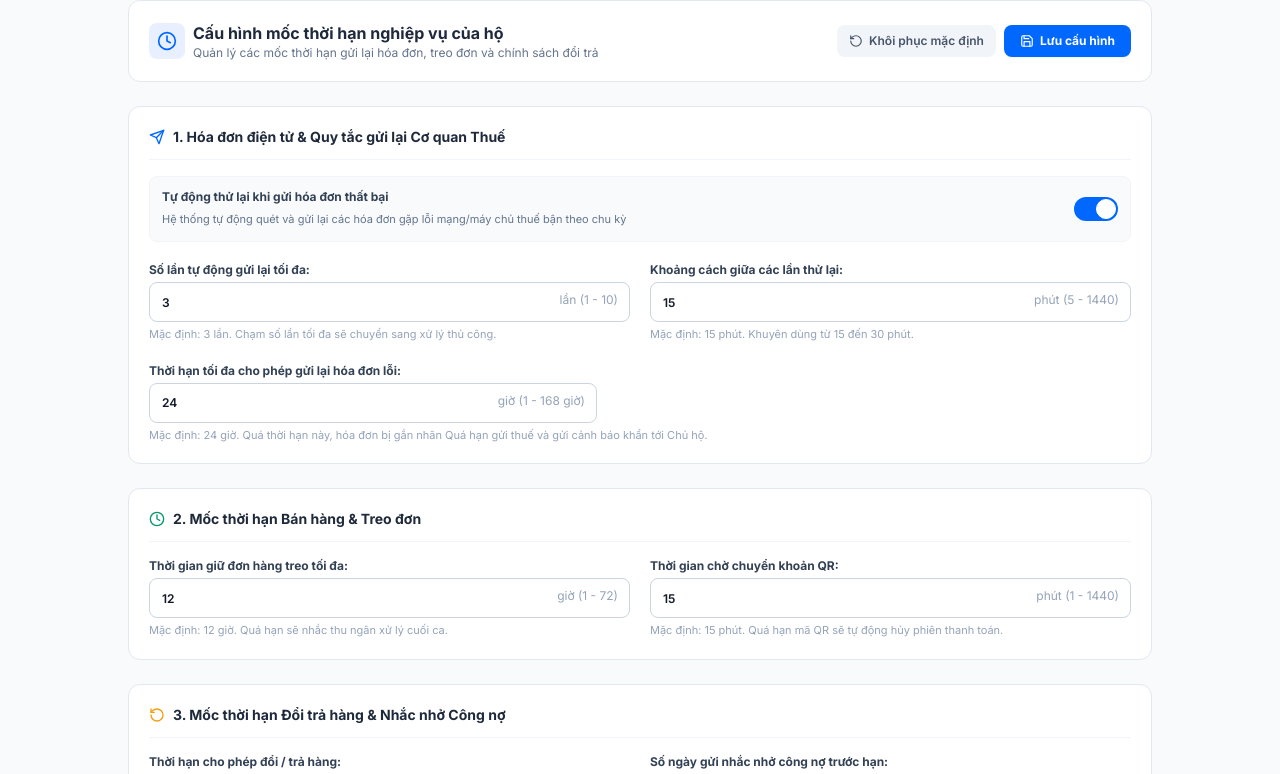
it: Cấu hình các mốc thời hạn nghiệp vụ của hộ › TC-04: Tương tác bật/tắt các thiết lập chuyển mạch (Toggle Switches)
The image size is (1280, 774).
Expected: the number field named "Số lần tự động gửi lại tối đa" is enabled, [149, 282, 630, 322]
Click the checkbox named "Bật tự động thử lại khi gửi hóa đơn thất bại" at (1096, 209), box [1074, 197, 1118, 221]
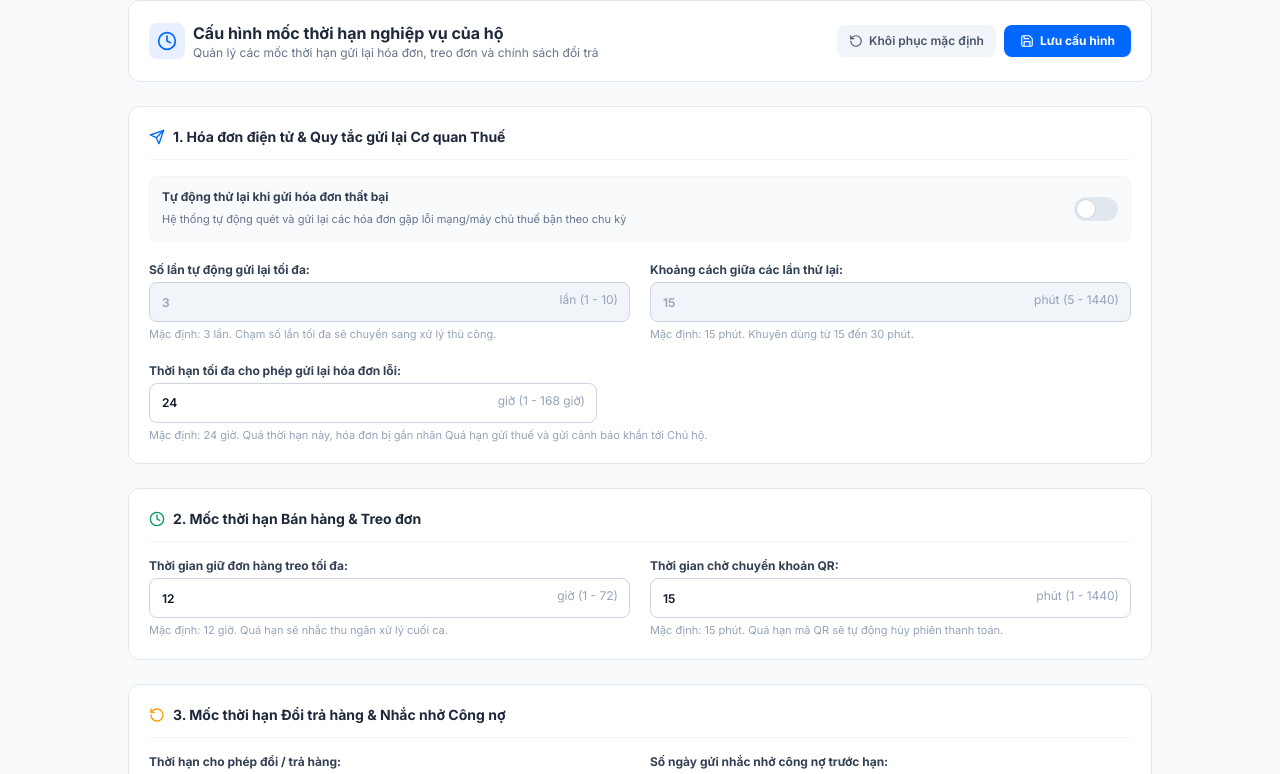
Expected: the checkbox named "Bật tự động thử lại khi gửi hóa đơn thất bại" is not checked
Expected: the number field named "Số lần tự động gửi lại tối đa" is disabled, [149, 282, 630, 322]
Click the checkbox named "Bật tự động thử lại khi gửi hóa đơn thất bại" at (1096, 209), box [1074, 197, 1118, 221]
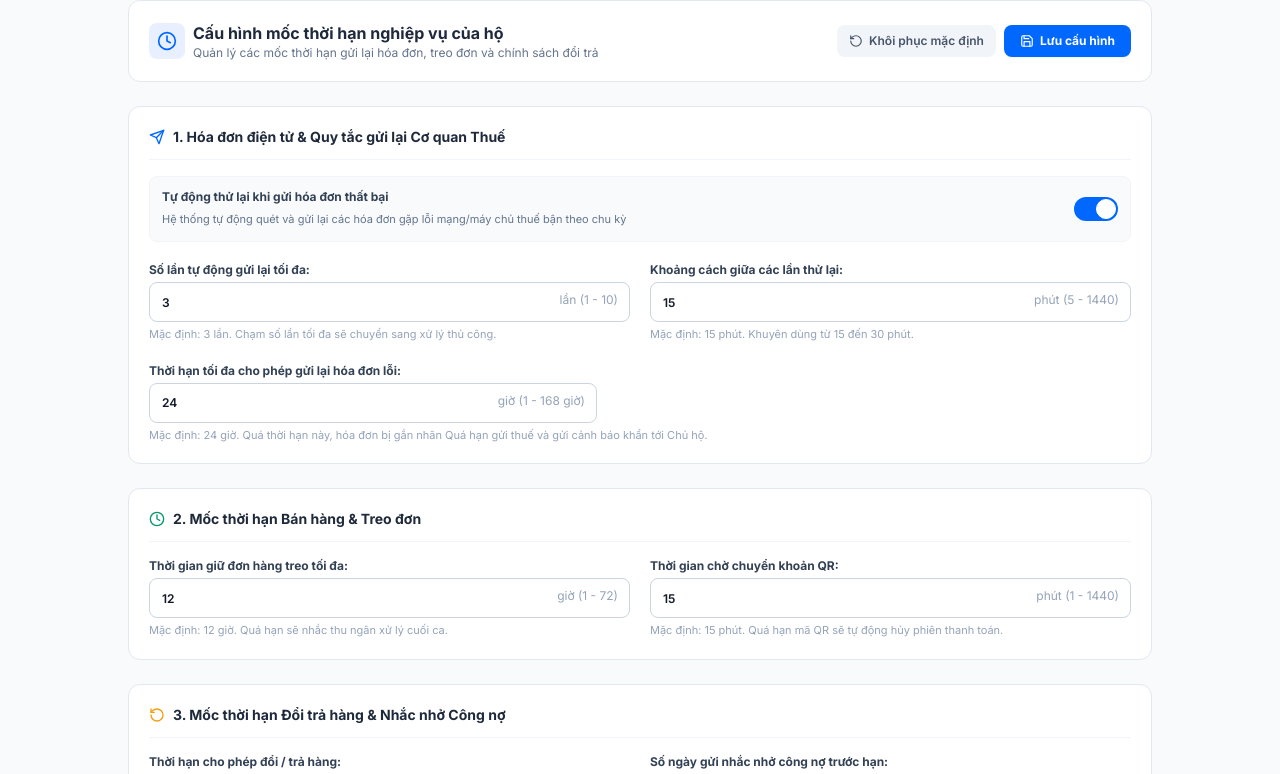
Expected: the checkbox named "Bật tự động thử lại khi gửi hóa đơn thất bại" is checked, [1074, 197, 1118, 221]
Expected: the number field named "Số lần tự động gửi lại tối đa" is enabled, [149, 282, 630, 322]
